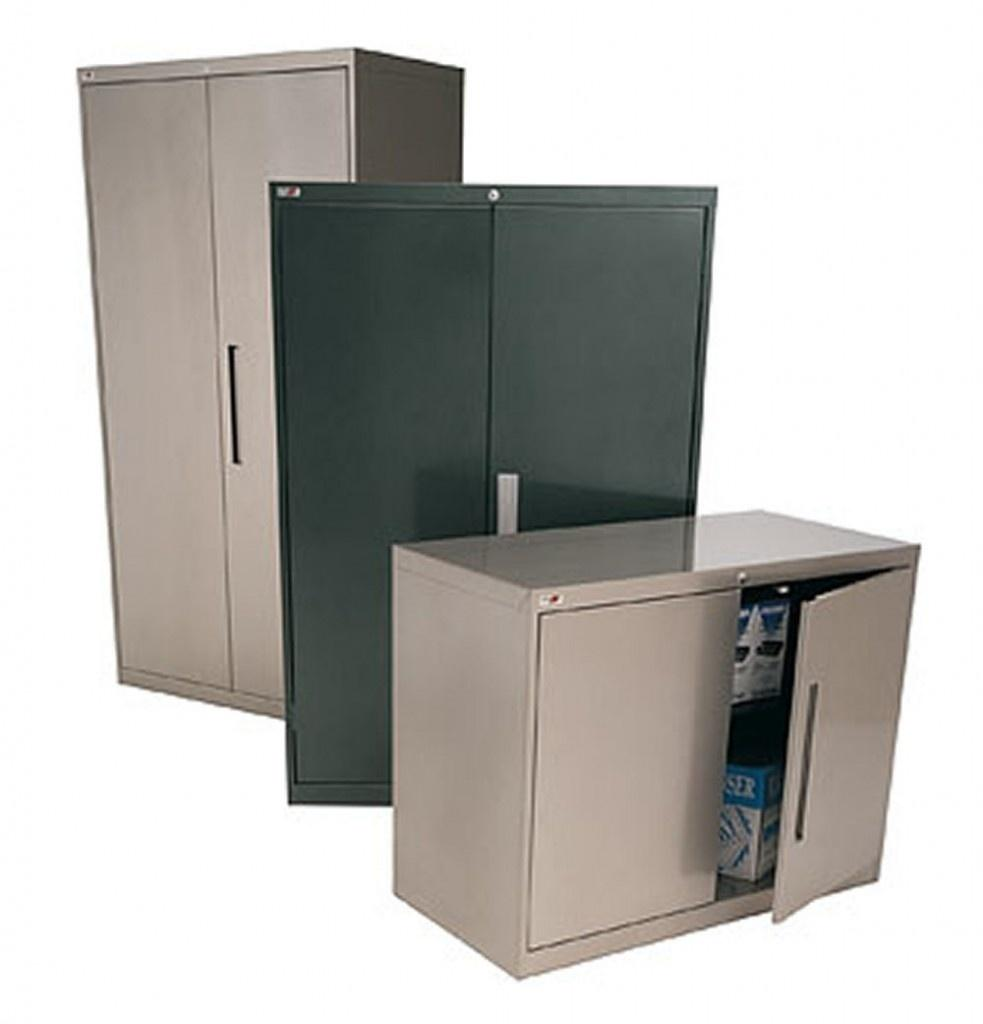cabinet_door: (290, 203, 488, 790), (492, 207, 687, 783), (219, 84, 350, 699), (110, 87, 218, 693), (528, 605, 725, 927), (794, 594, 908, 885)
handle: (800, 679, 832, 843), (492, 465, 530, 573), (220, 341, 246, 471)
